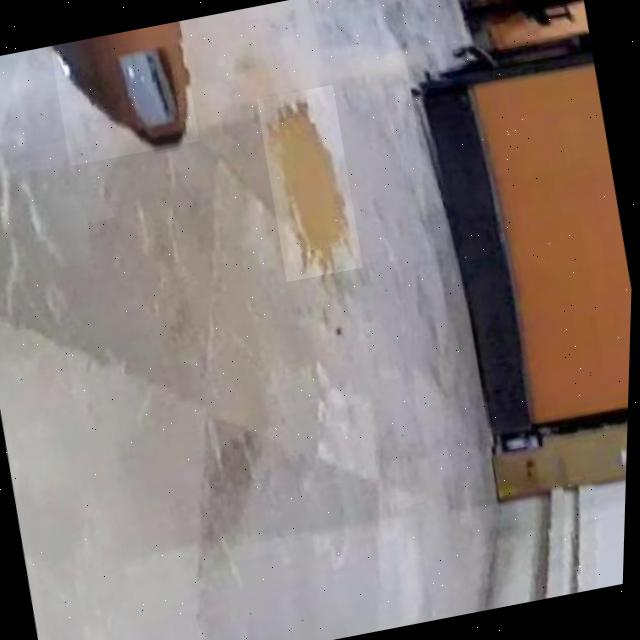spillage: (51, 22, 187, 148), (260, 92, 352, 273)
